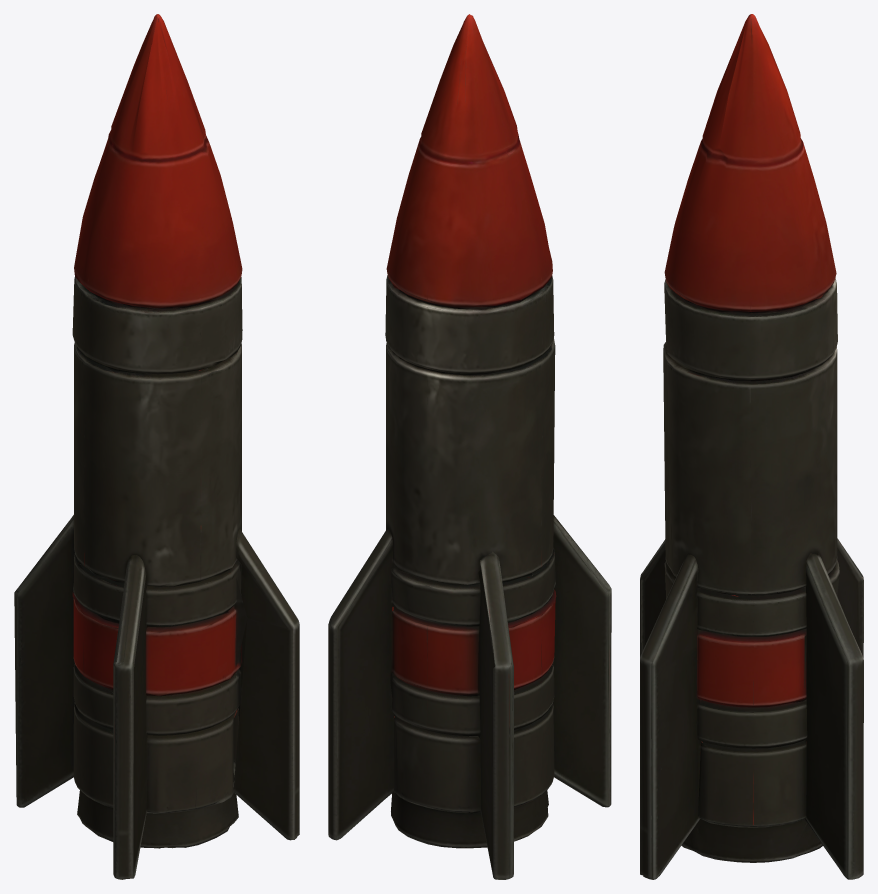
File: proj_missile.glb
3 renders of one model, left to right at view 1: azimuth 30°, elevation 25°; view 2: azimuth 150°, elevation 25°; view 3: azimuth 270°, elevation 25°, orthographic.
Size of the model in its own units: 0.228 by 0.9517 by 0.2354.
1 material, 1 textured.
